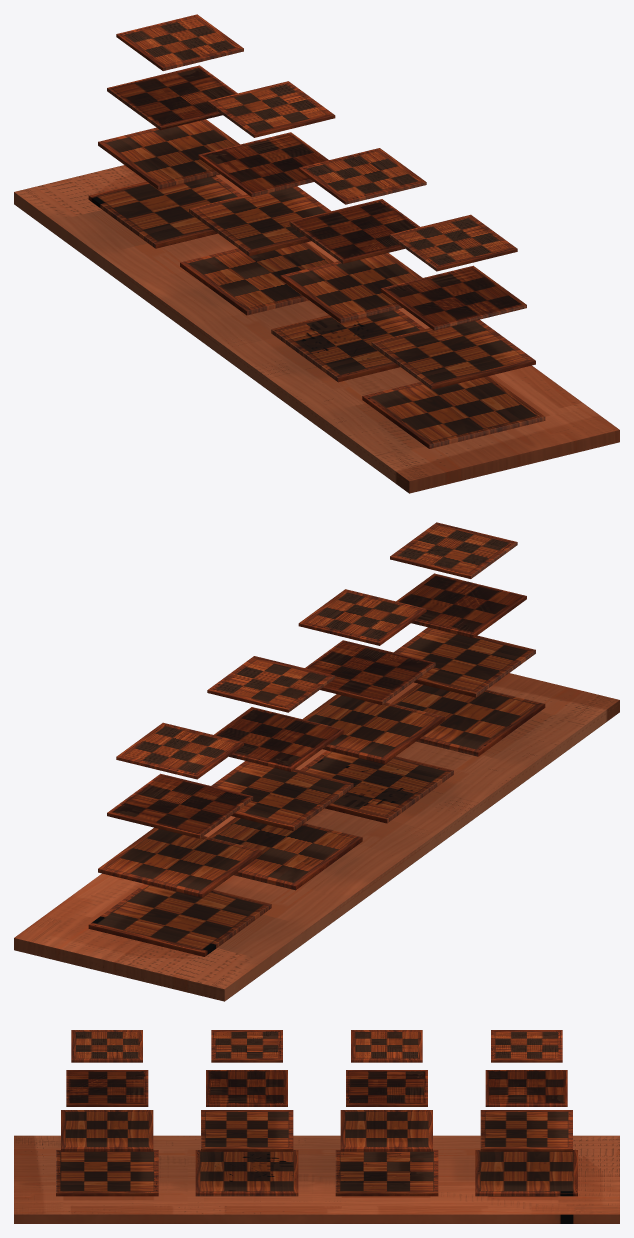
Rendered from 4D-Chess.fbx.
3 views of the same model, one above another, from view 1: azimuth 30°, elevation 25°; view 2: azimuth 150°, elevation 25°; view 3: azimuth 270°, elevation 25° (orthographic). The views are drawn at different scales.
Visible parts, largest first — view 1: ChessBoard_LP.001; view 2: ChessBoard_LP.001; view 3: ChessBoard_LP.001.
Part boxes in pixels (x1=…): ChessBoard_LP.001: x1=14, y1=14, x2=619, y2=493; ChessBoard_LP.001: x1=14, y1=522, x2=619, y2=1001; ChessBoard_LP.001: x1=14, y1=1030, x2=619, y2=1223.
Size of the model in its own units: 200 by 165 by 650.
